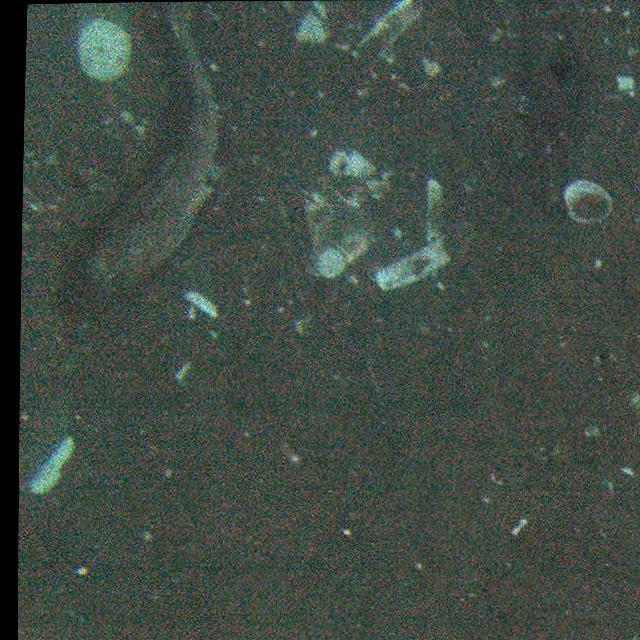roundfish: (77, 8, 229, 306)
